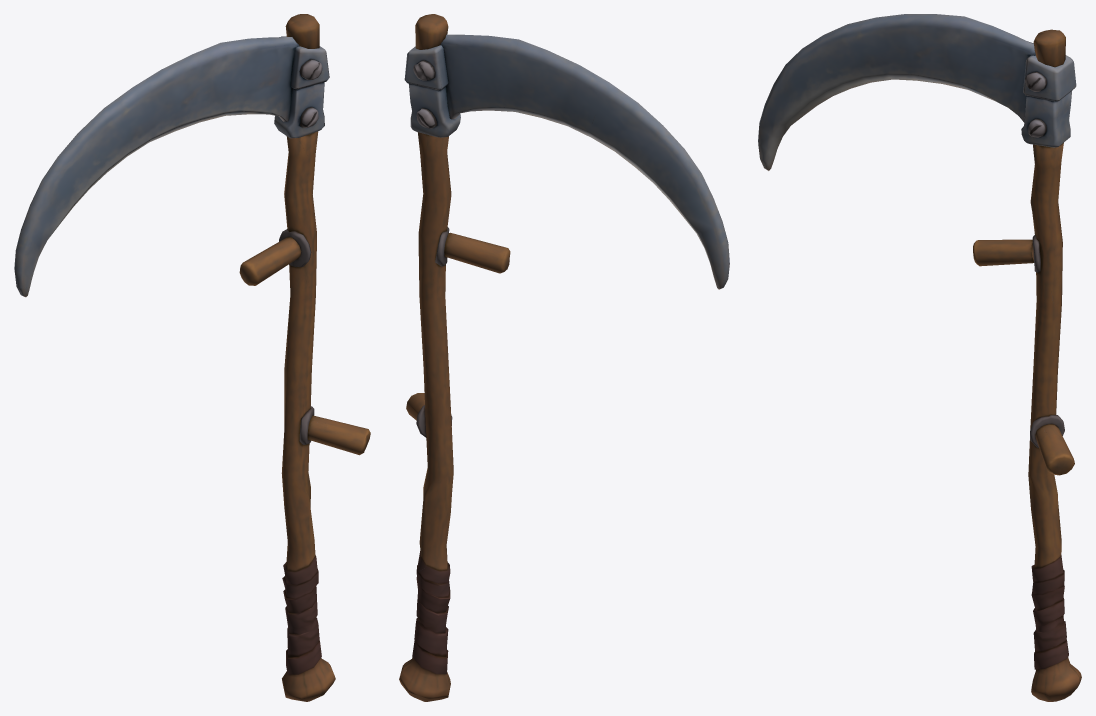
Rendered from Scyth.glb.
The picture shows the model from 3 angles, left to right: view 1: azimuth 30°, elevation 25°; view 2: azimuth 150°, elevation 25°; view 3: azimuth 330°, elevation 25°; orthographic projection. The views are drawn at different scales.
Visible parts, largest first — view 1: geometry_0; view 2: geometry_0; view 3: geometry_0.
Part boxes in pixels (<box>): geometry_0: <box>14,14,370,701</box>; geometry_0: <box>399,14,729,701</box>; geometry_0: <box>758,14,1081,701</box>.
Bounding box in the file's own units: 0.4941 × 0.9512 × 0.1162.
1 material, 1 textured.
